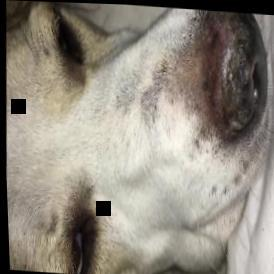keratosis: (203, 9, 255, 130)
